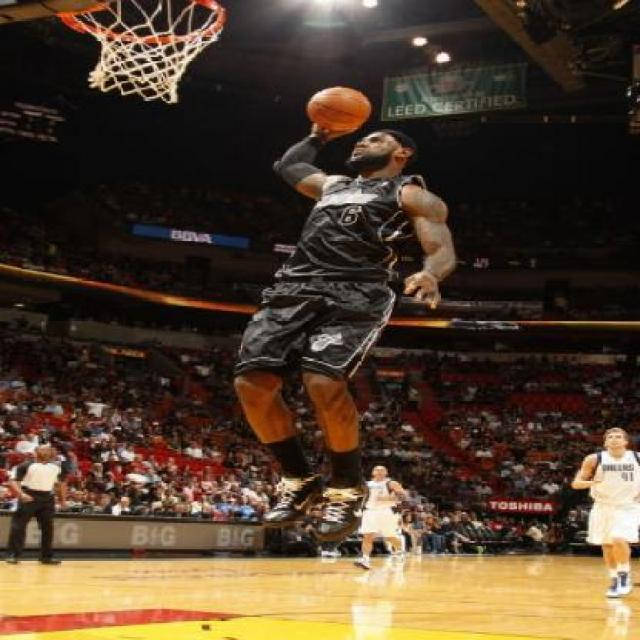basketball: (306, 85, 374, 133)
rim: (68, 0, 225, 100)
